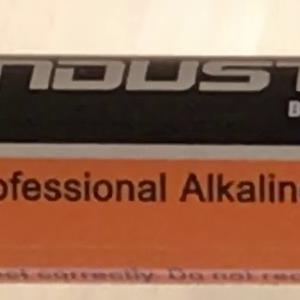keyword: (169, 163, 224, 212)
